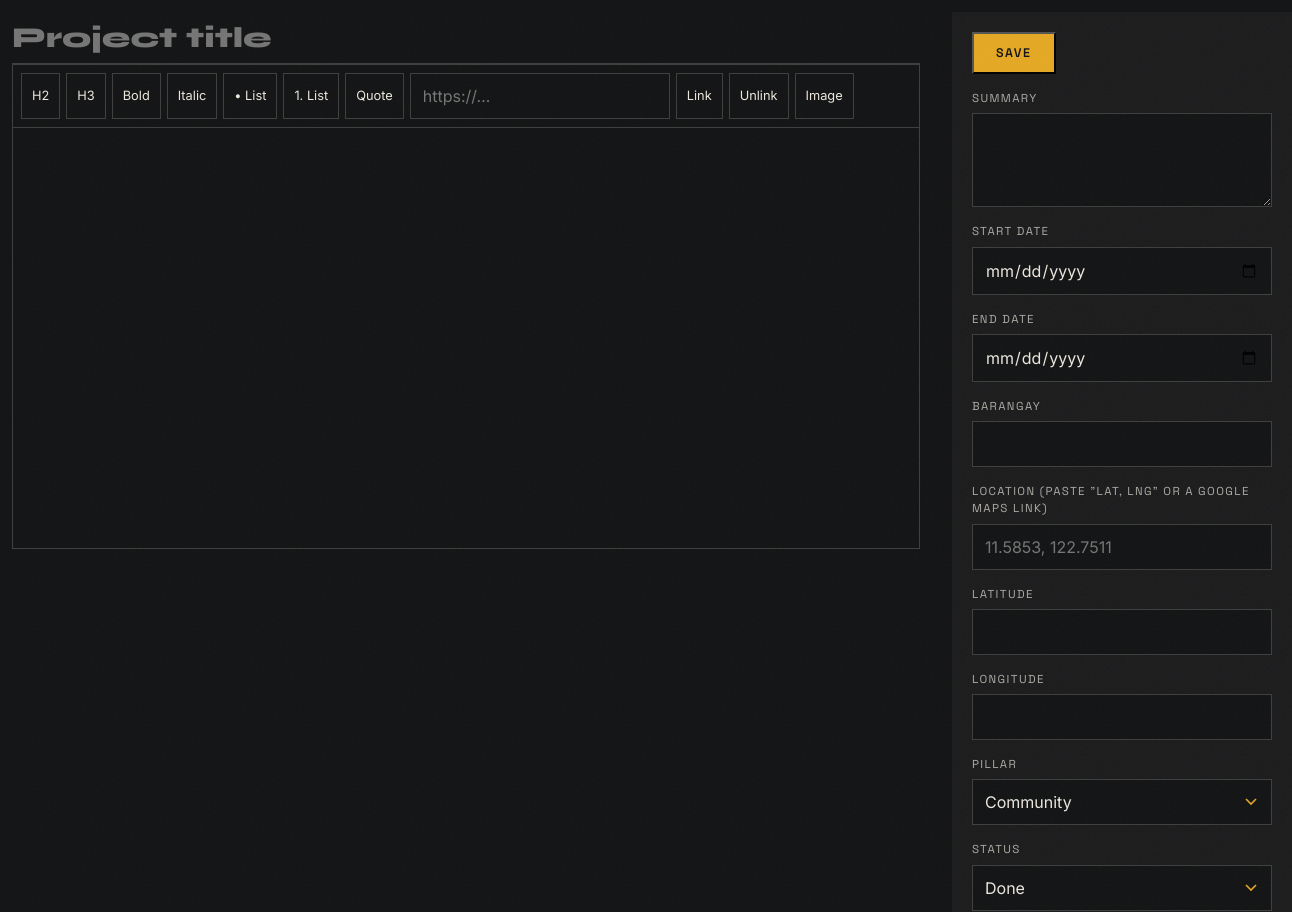
Test: ProjectEditor › keeps the editor and shows the error when saving fails
This screenshot has width=1292, height=912.
Type "Tree planting" into the field labelled "title". click: (466, 38)
box: top-left (12, 12), bottom-right (920, 64)
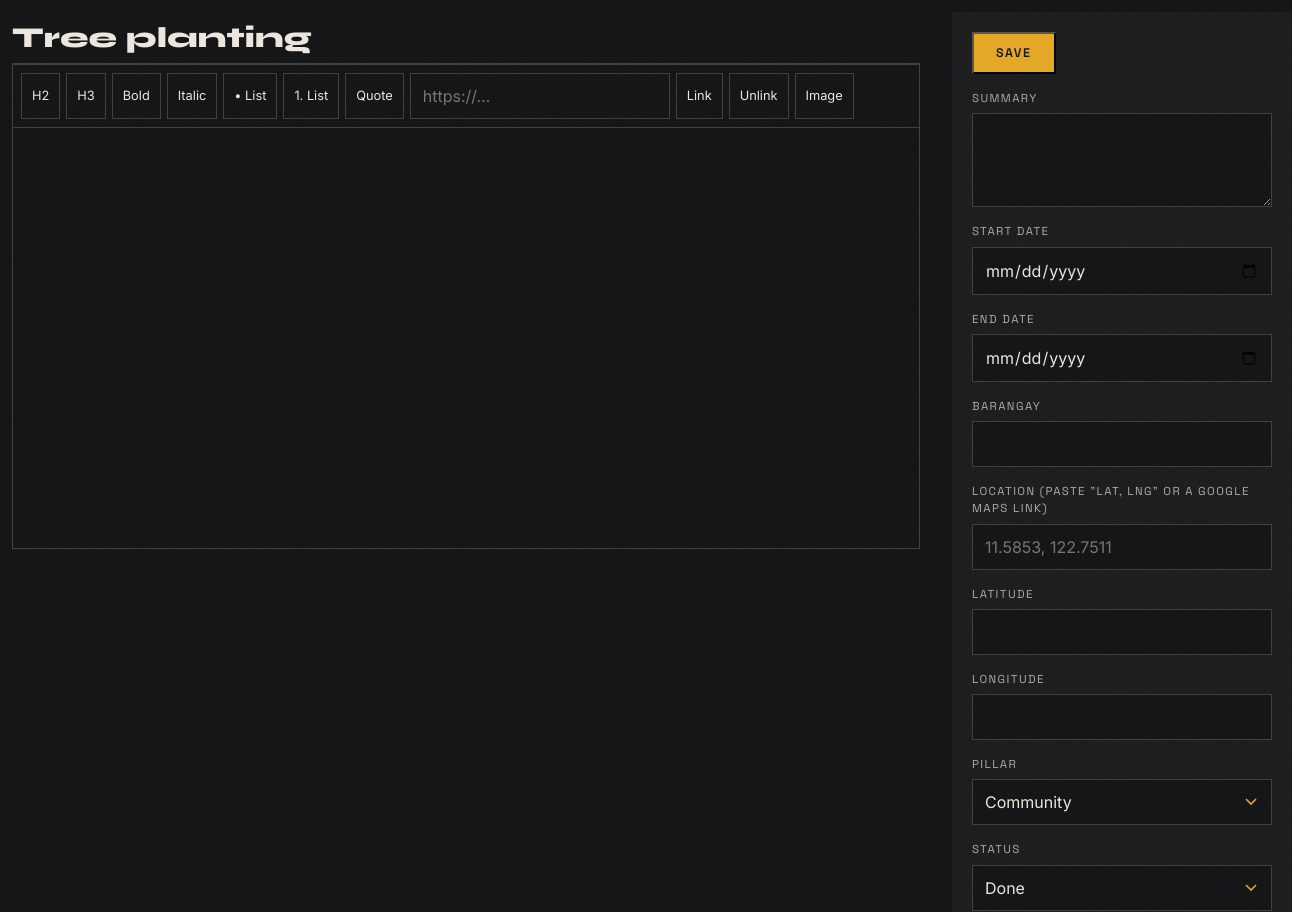
Click the button "Save". click: click(1014, 53)
box: top-left (972, 32), bottom-right (1056, 74)
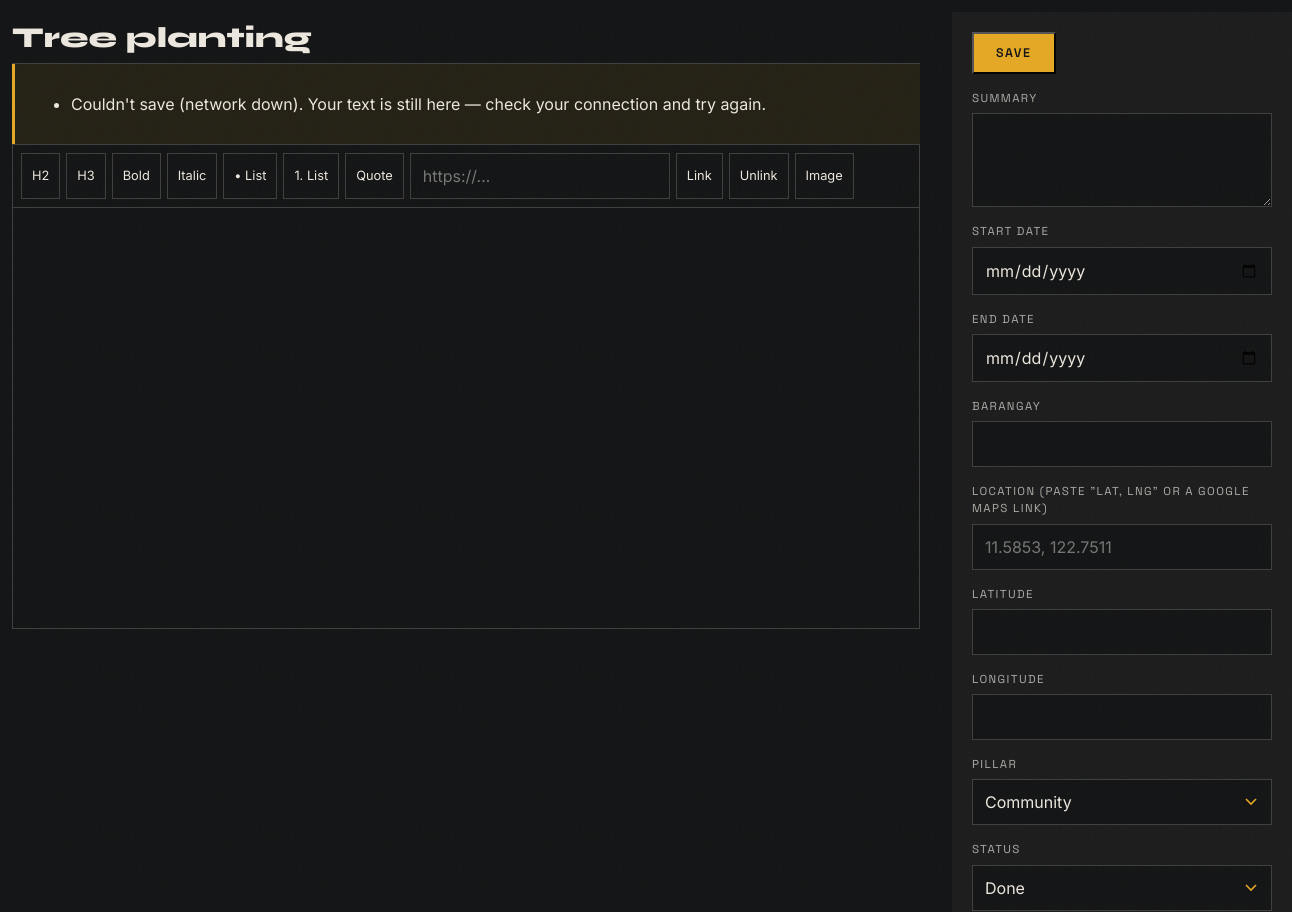
Expected: the message shows "Couldn't save (network down)", top-left (71, 94), bottom-right (766, 114)
